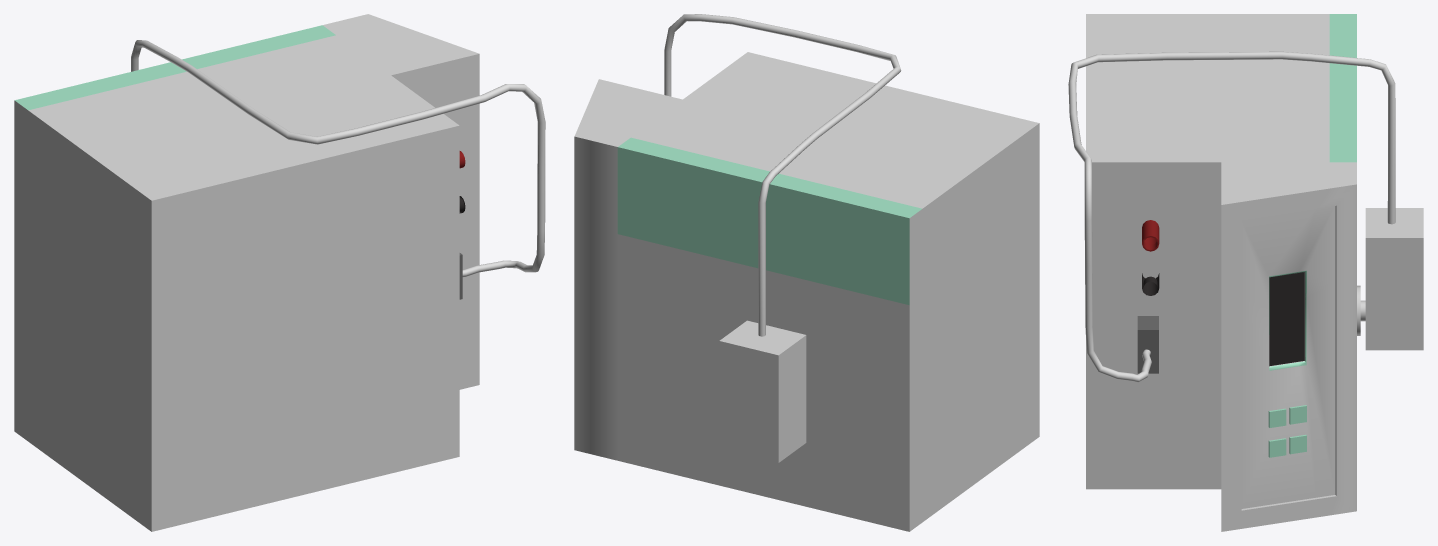
The picture shows the model from 3 angles, left to right: view 1: azimuth 30°, elevation 25°; view 2: azimuth 150°, elevation 25°; view 3: azimuth 270°, elevation 25°; orthographic projection. The views are drawn at different scales.
Visible parts, largest first — view 1: Cube; view 2: Cube; view 3: Cube.
Boxes of the visible parts, left/top/right/bottom form: Cube: left=14, top=14, right=545, bottom=531; Cube: left=574, top=14, right=1039, bottom=531; Cube: left=1068, top=14, right=1423, bottom=531.
Size of the model in its own units: 25.06 by 21.74 by 19.69.
